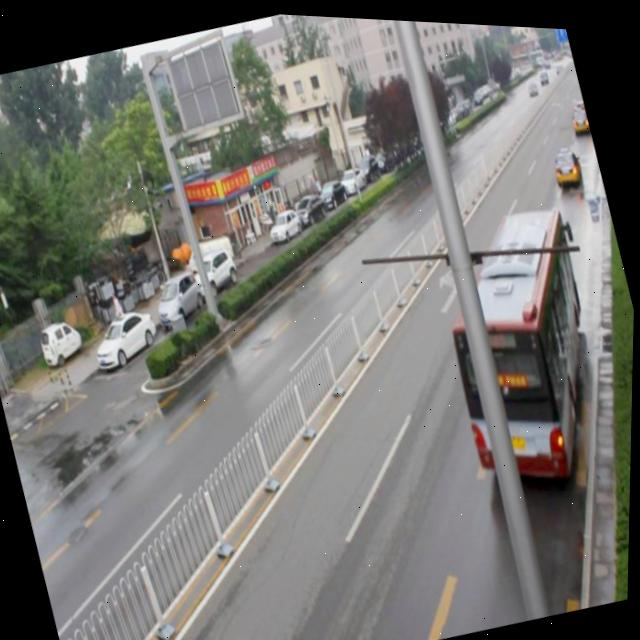car: (546, 138, 582, 183)
van: (417, 189, 631, 494)
